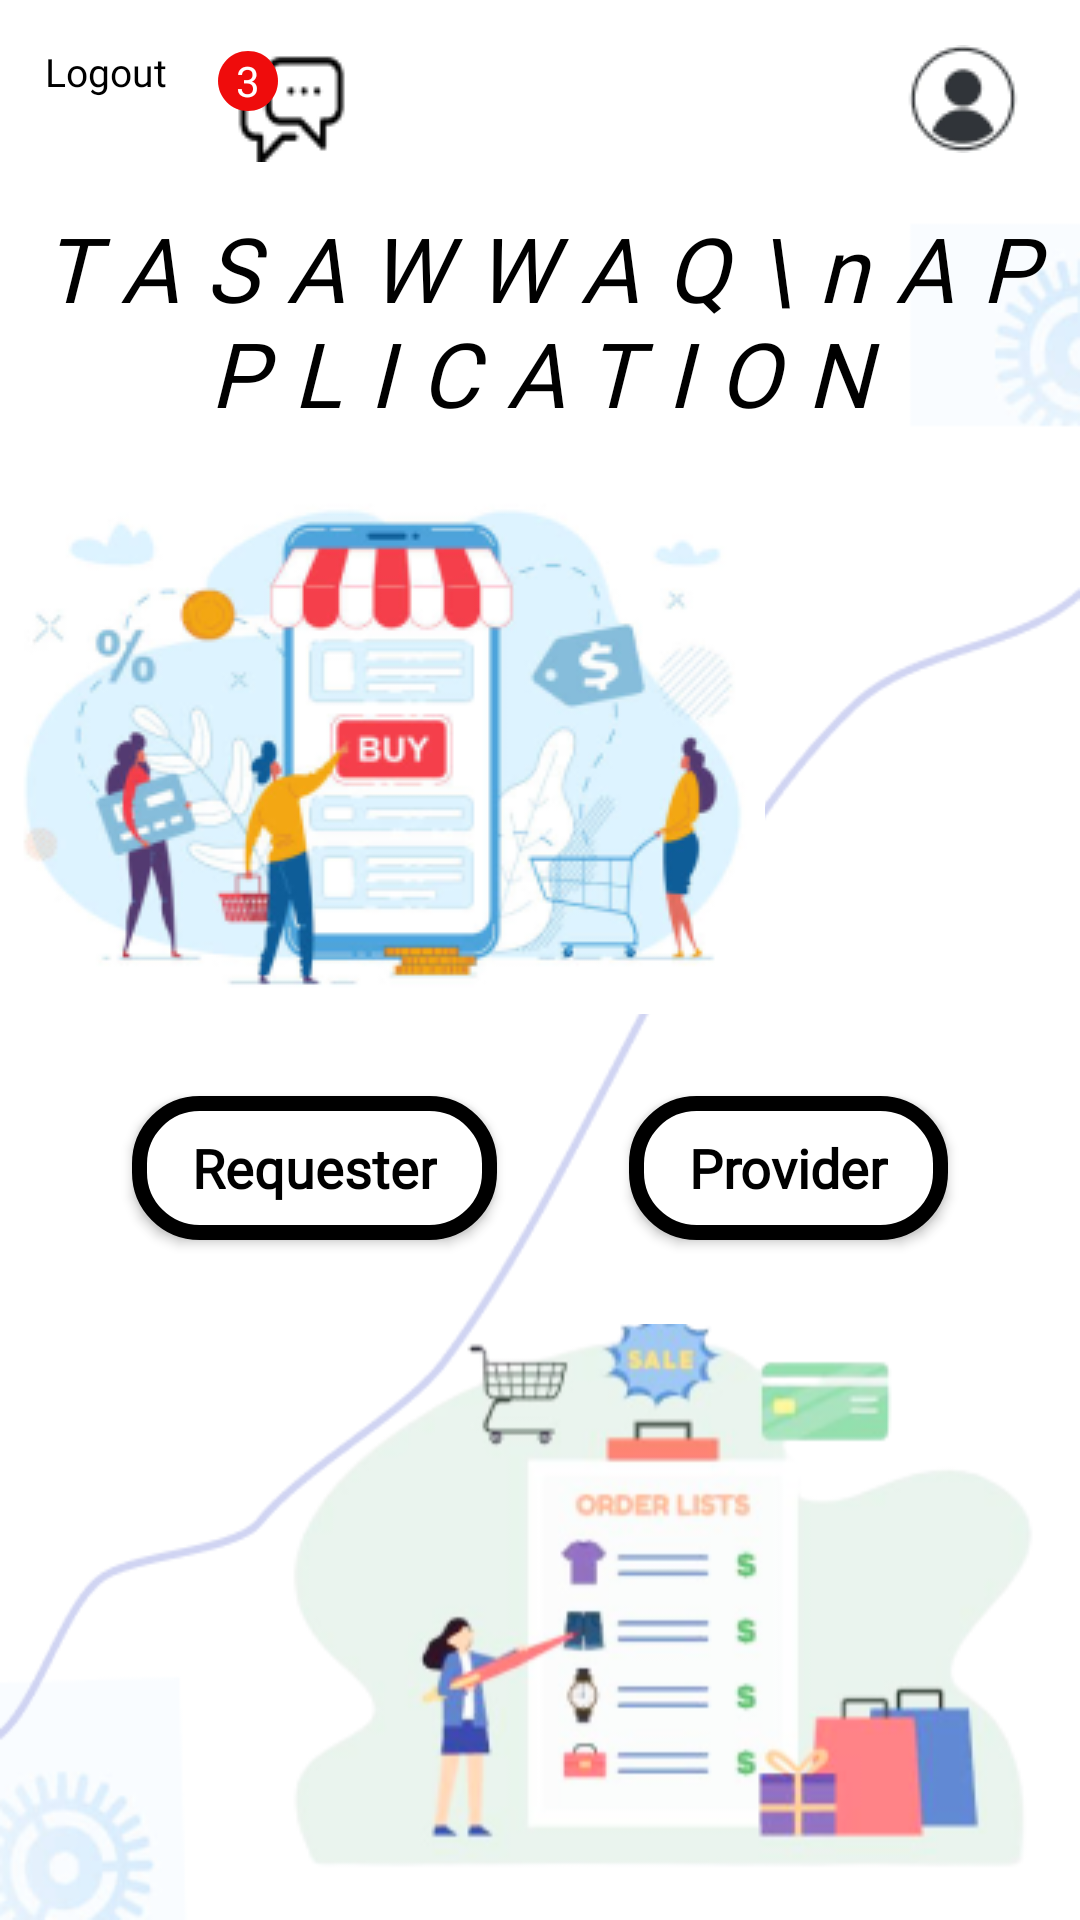

Icon bounding boxes for this 1080×1920 phone screenshot, format (left=x1, top=y1, right=x2, bottom=y2):
acc: (left=910, top=45, right=1016, bottom=153)
